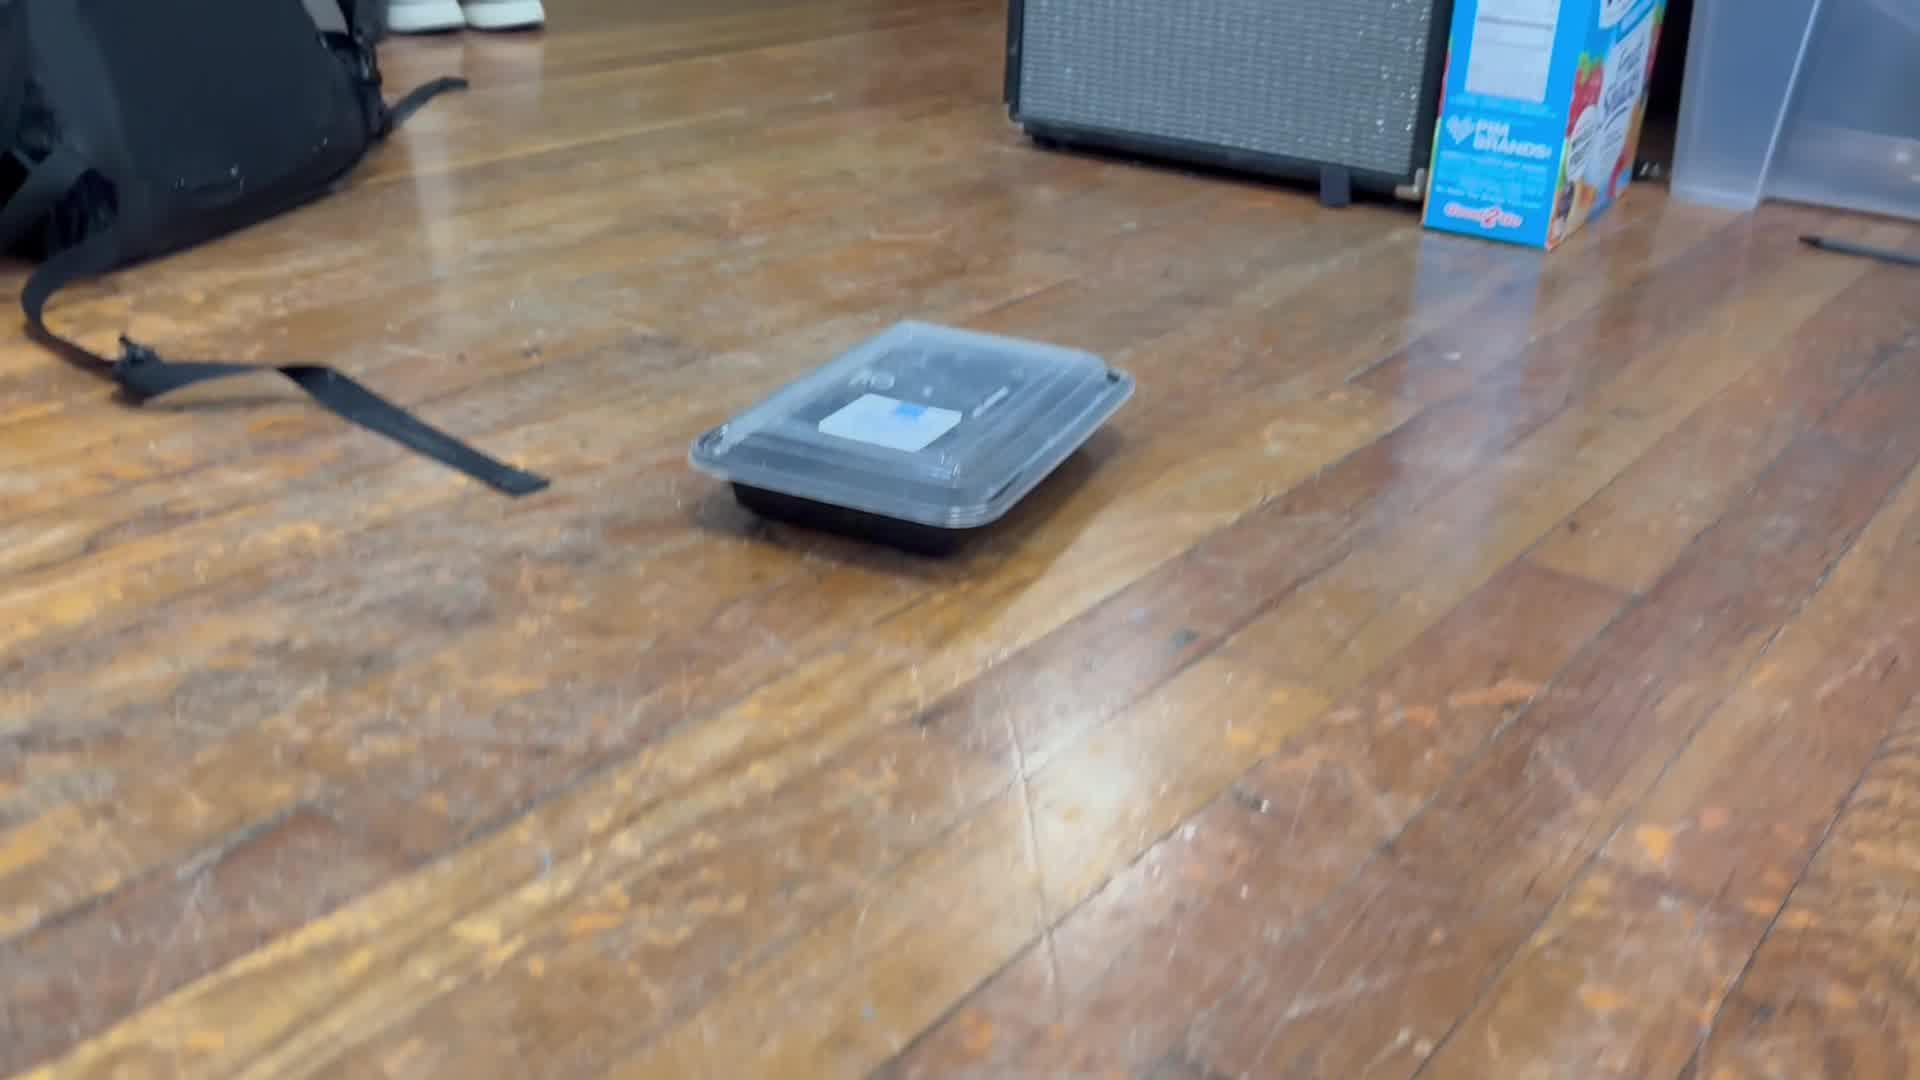lp_cup_lids: (683, 307, 1141, 564)
